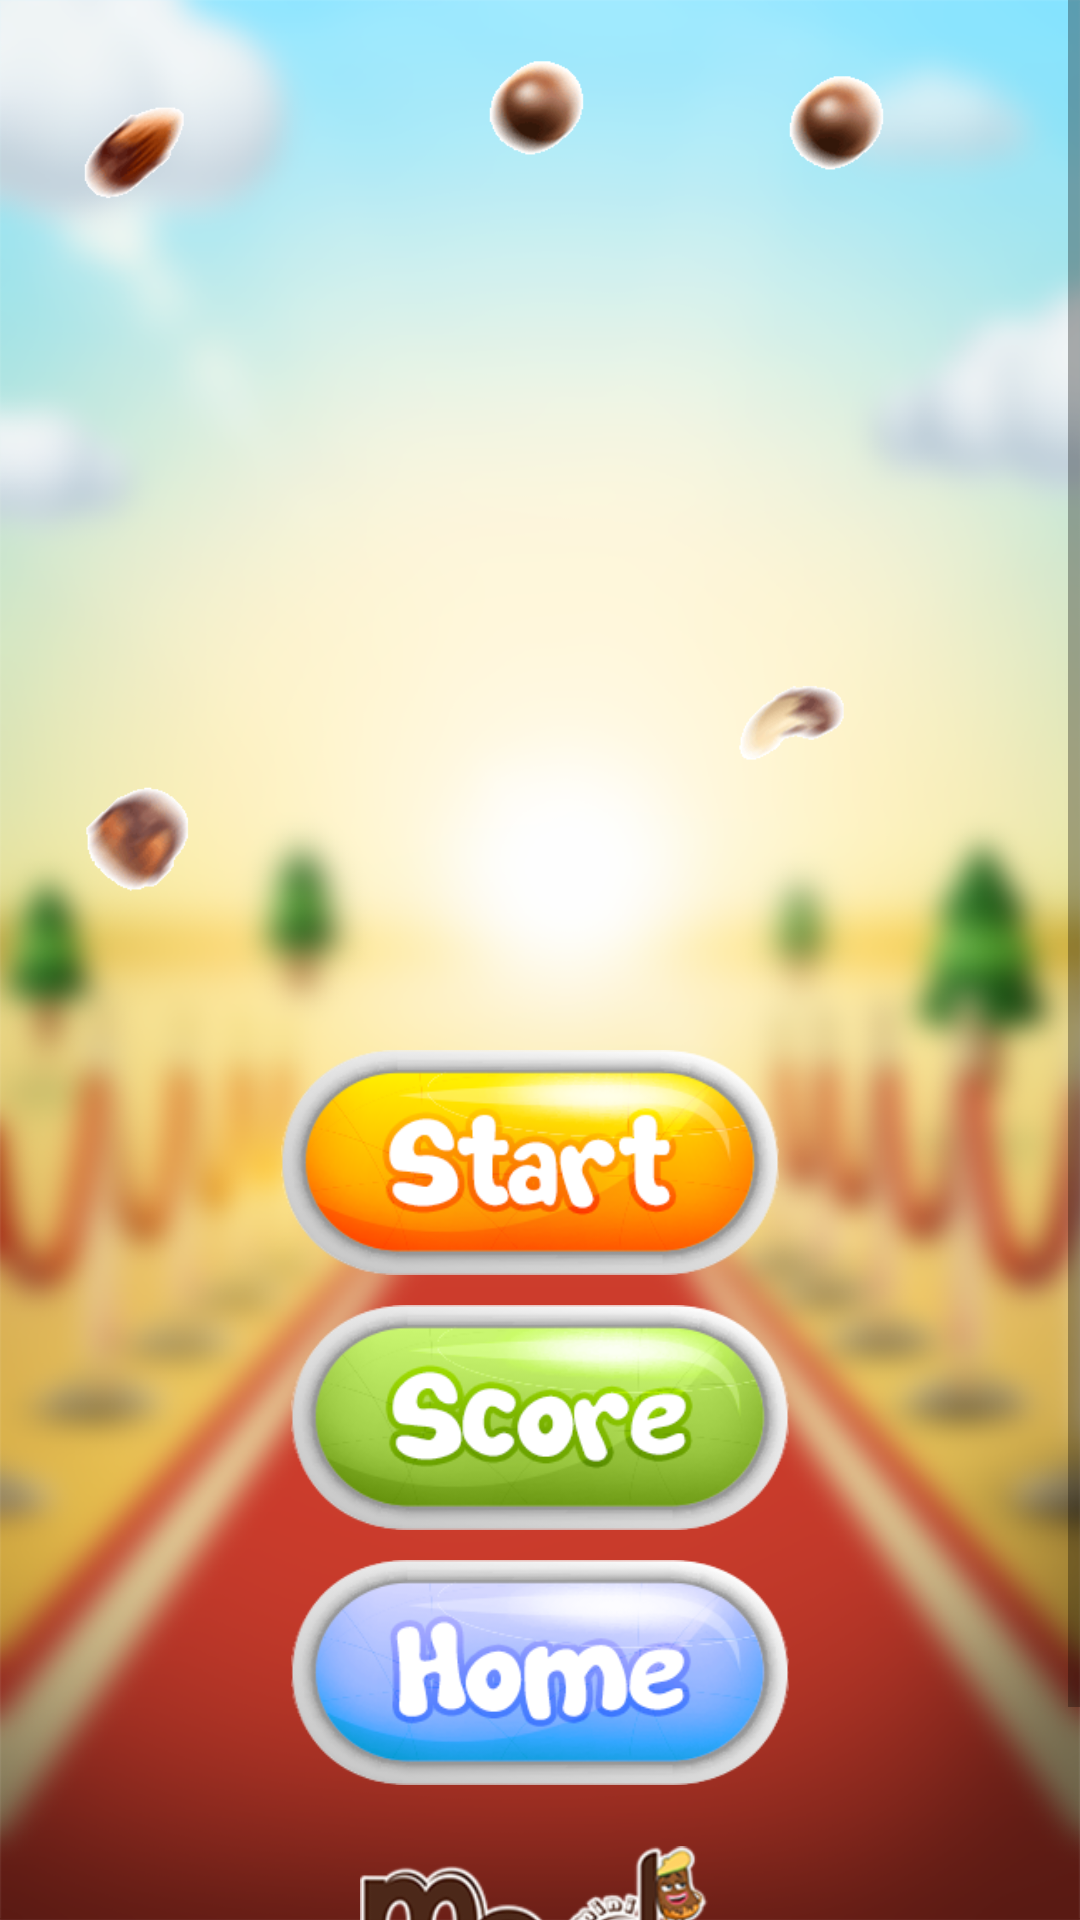

Screen size 1080w x 1920h. Icon name, then its center in pixels as point (x, y):
fly nuts: point (536, 108), point (844, 123), point (135, 161), point (791, 722), point (137, 839)
